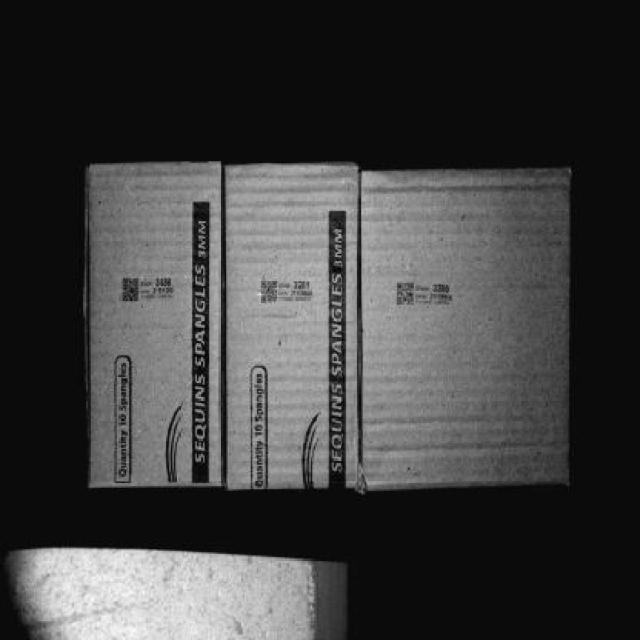cardboxes: (369, 174, 573, 488), (90, 171, 228, 492), (234, 168, 364, 489)
